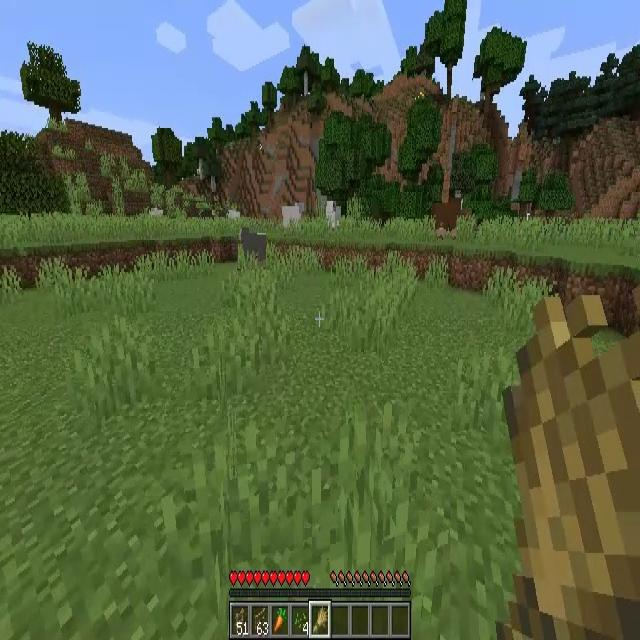sheep: (238, 226, 266, 269), (281, 203, 306, 233), (325, 202, 341, 228), (225, 210, 240, 226), (150, 208, 163, 223)
